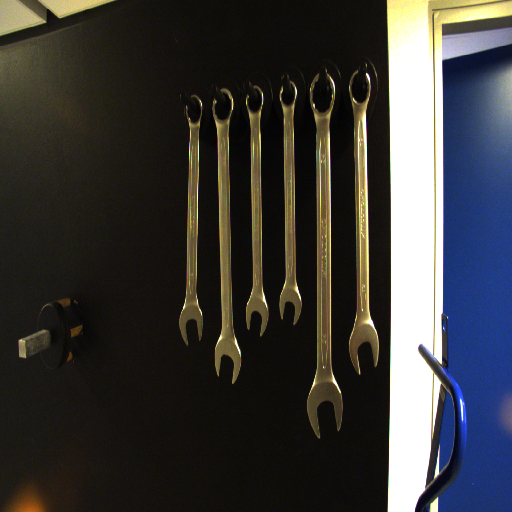bottom: (304, 380, 347, 442), (347, 320, 383, 376), (212, 335, 245, 385), (176, 305, 207, 348), (243, 292, 272, 337), (276, 283, 303, 327)
top: (307, 69, 337, 117), (346, 67, 373, 108), (208, 88, 235, 126), (180, 94, 206, 128), (242, 85, 267, 119), (276, 80, 299, 110)
